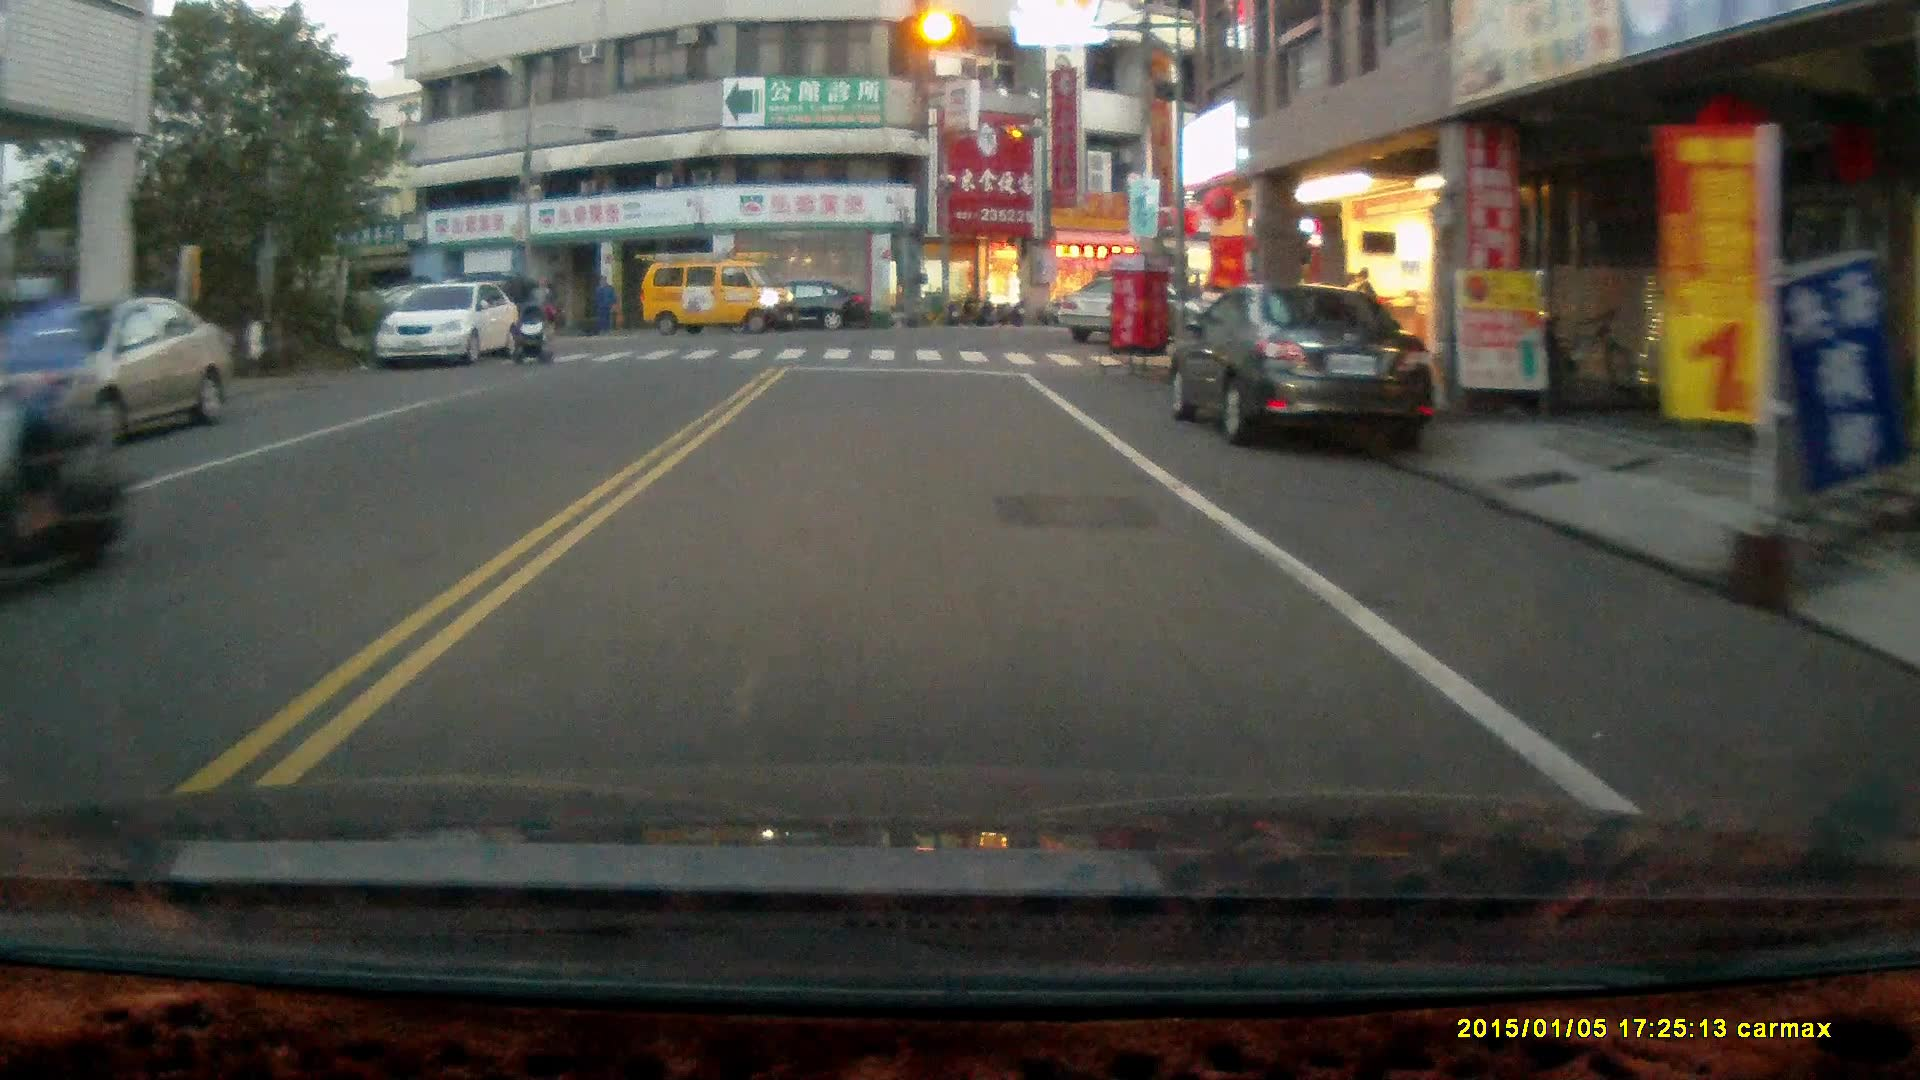pedestrian: (526, 274, 554, 348), (593, 274, 615, 335)
rider: (0, 249, 131, 604), (507, 301, 558, 369)
vehicle: (1167, 284, 1439, 452), (4, 296, 227, 454), (640, 250, 800, 332), (380, 288, 521, 375), (1052, 276, 1201, 350), (747, 282, 868, 334)
